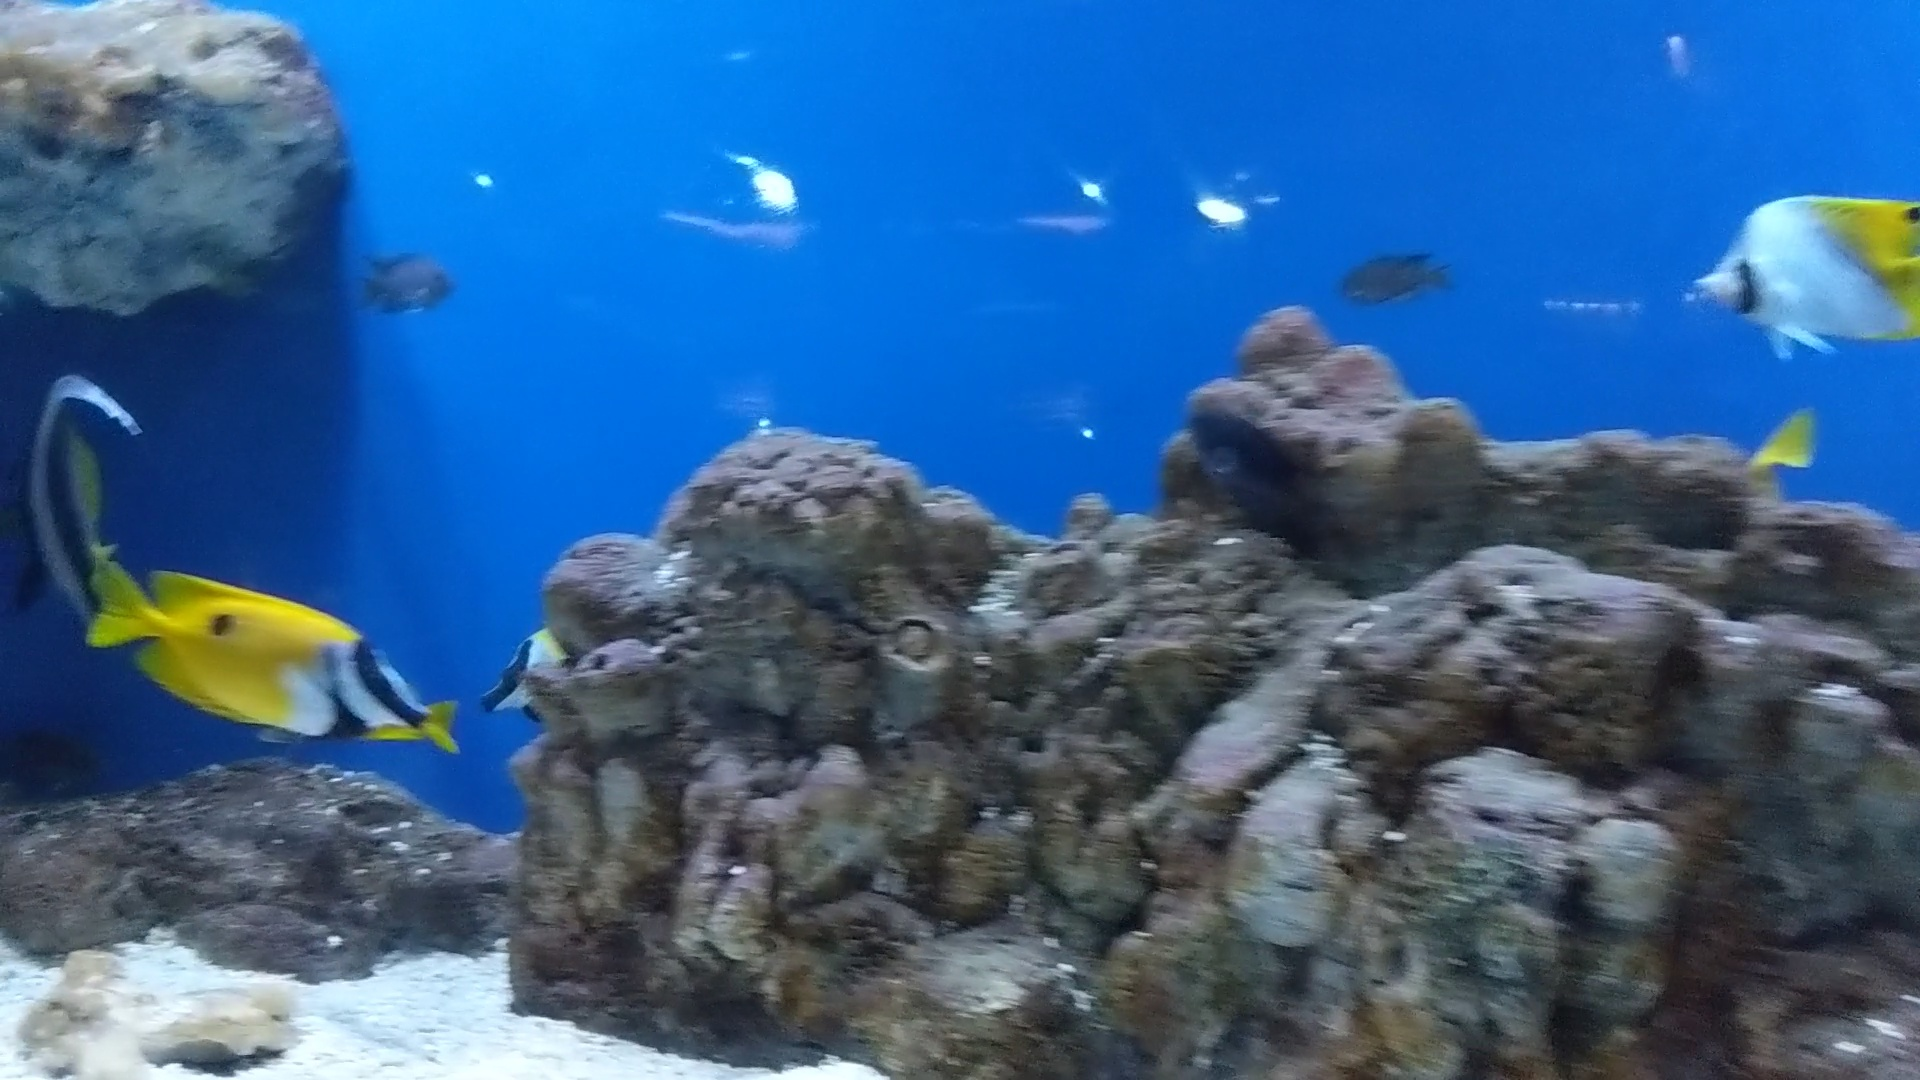butterflyfish: (1683, 174, 1919, 363)
moorfish: (3, 375, 154, 618)
rabbitfish: (88, 549, 409, 750)
